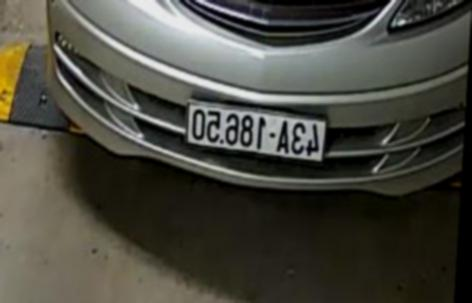License_Plate: (180, 99, 328, 166)
